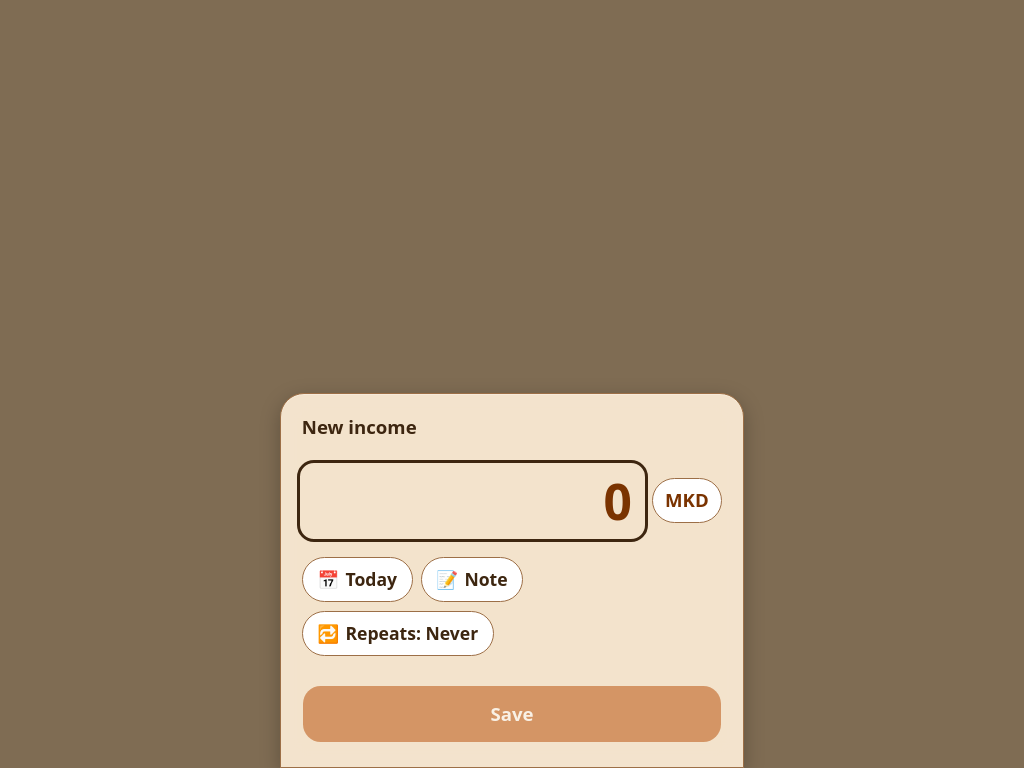
Test case: PersonalIncomeSheet, refused saves › shows the translated message for MONEY_NOT_ON_CURRENCY_STEP above Save
Type "65000" into the field named "Amount" at (473, 501), box [300,463,646,539]
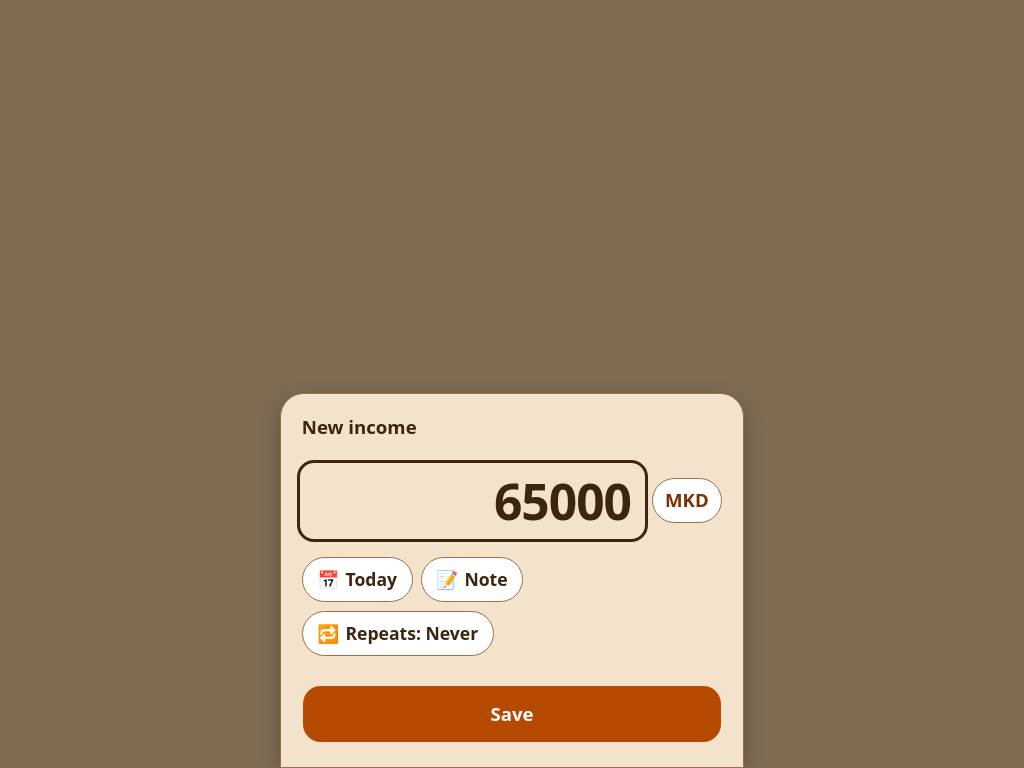
Click the button "📝 Note" at (472, 580), box [421,557,523,602]
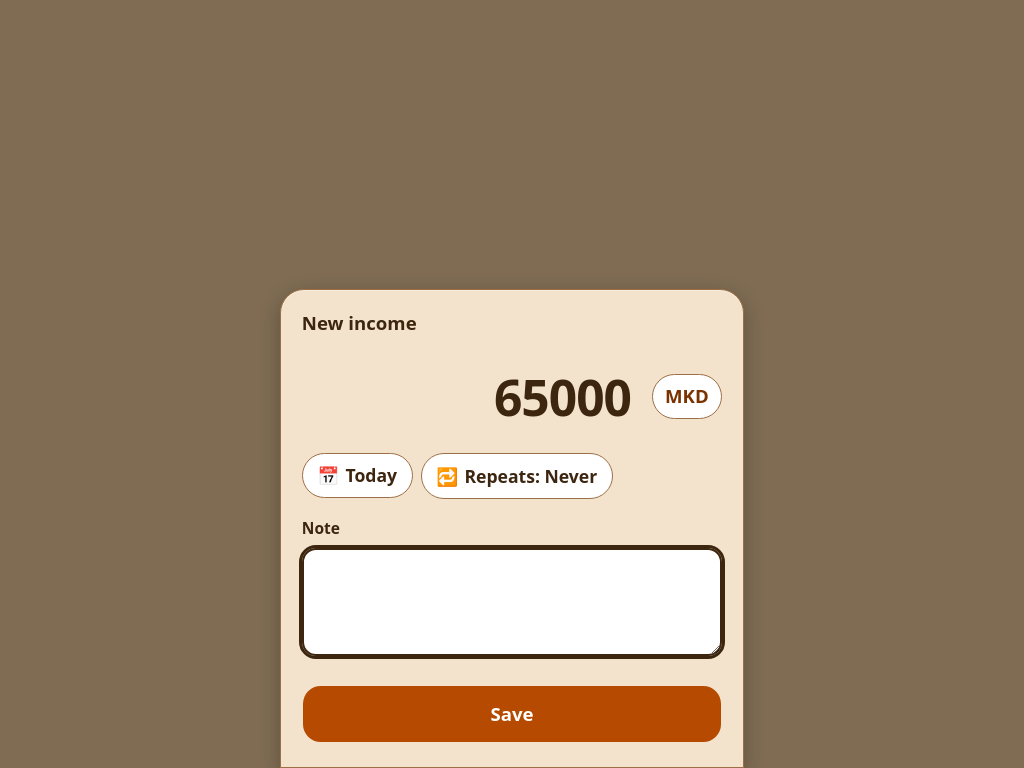
Type "Salary" into the text box labelled "Note" at (512, 602), box [302,548,722,656]
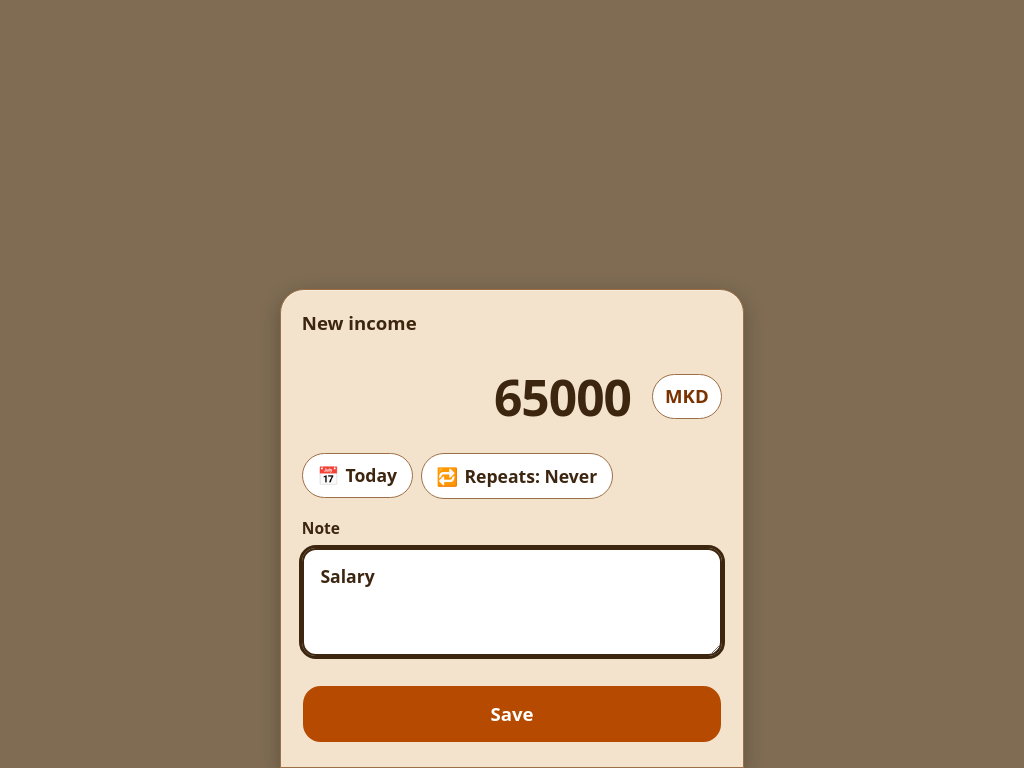
Click the button "Save" at (512, 714), box [302,685,722,743]
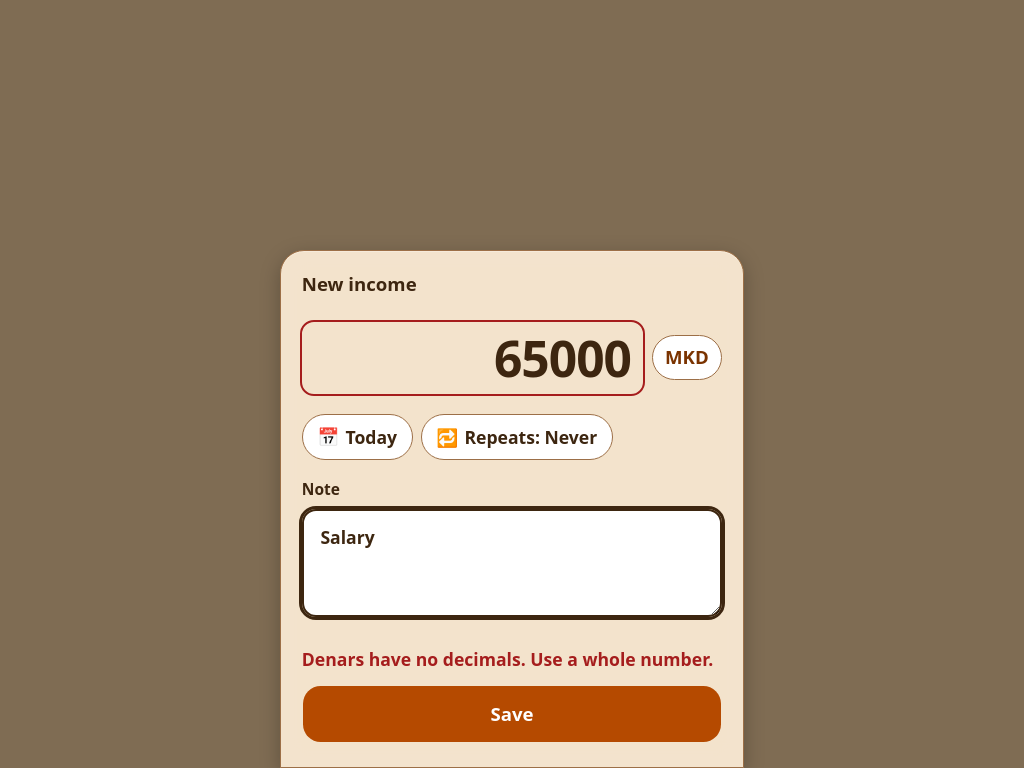
Now the message "Denars have no decimals. Use a whole number." is shown, box [302,646,722,673]
Now the message reads "Denars have no decimals. Use a whole number.", box [302,647,713,671]
